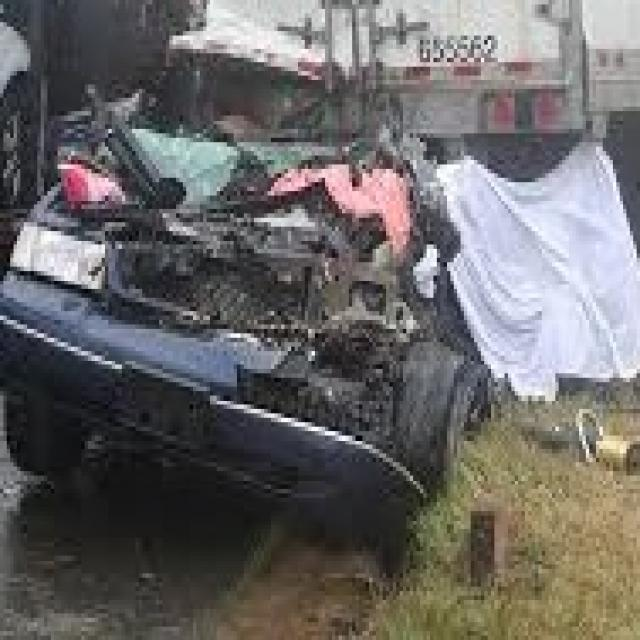severe: (9, 70, 472, 467)
